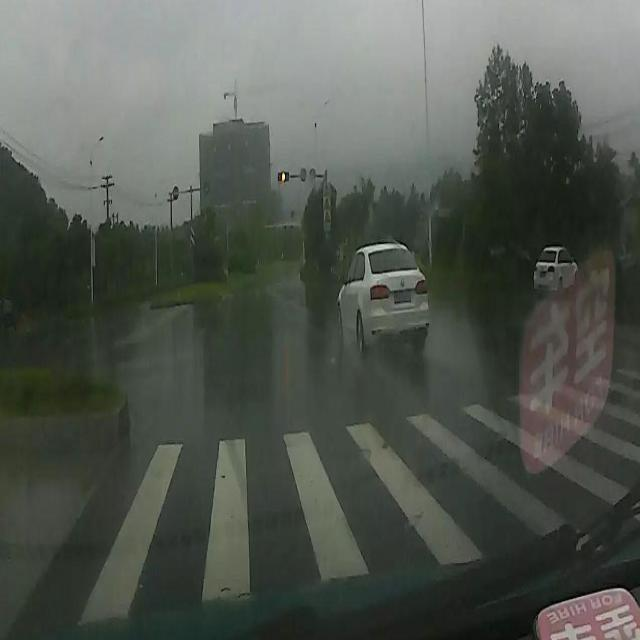car: (336, 241, 430, 356), (531, 243, 579, 297)
